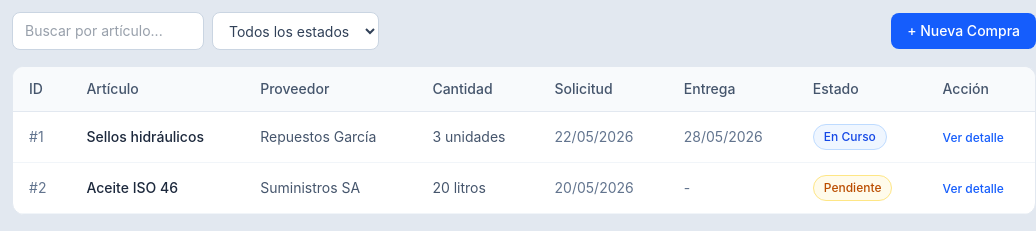
Test: Purchases page › filters by estado
The image size is (1036, 231).
Check: the number of rows is 3, box [13,67,1035,112]; [13,112,1035,162]; [13,162,1035,214]
Select "Pendiente" in the dropdown at [296, 31], box [212,12,379,50]
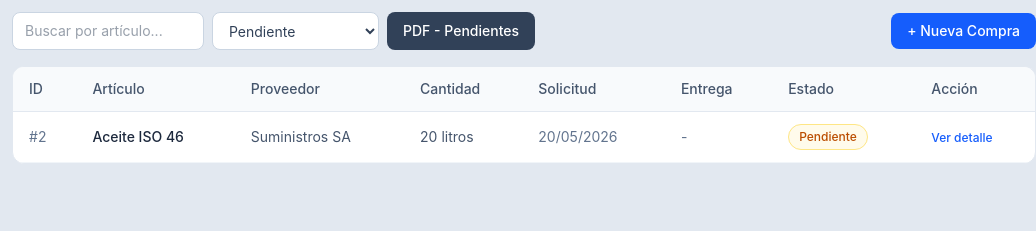
Check: the text "Aceite ISO 46" is shown, box [76,112,235,162]
Check: the text "Sellos hidráulicos" is gone
